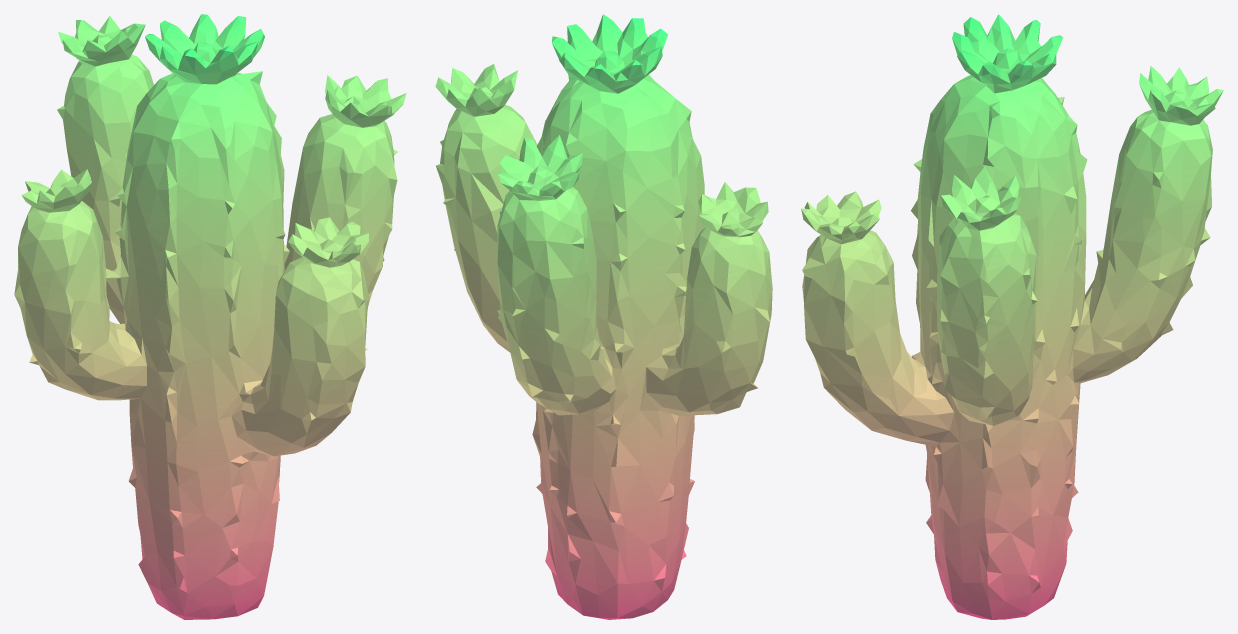
File: 115_cyb_laser_gradient_fish_scales_2942_2026_10_03_bd2297.glb
3 renders of one model, left to right at view 1: azimuth 30°, elevation 25°; view 2: azimuth 150°, elevation 25°; view 3: azimuth 270°, elevation 25°, orthographic.
Visible parts, largest first — view 1: geometry_0; view 2: geometry_0; view 3: geometry_0.
Boxes of the visible parts, x1=… form: geometry_0: x1=14, y1=14, x2=406, y2=619; geometry_0: x1=435, y1=14, x2=772, y2=619; geometry_0: x1=801, y1=14, x2=1223, y2=619.
Bounding box in the file's own units: 0.65 × 0.9978 × 0.669.
